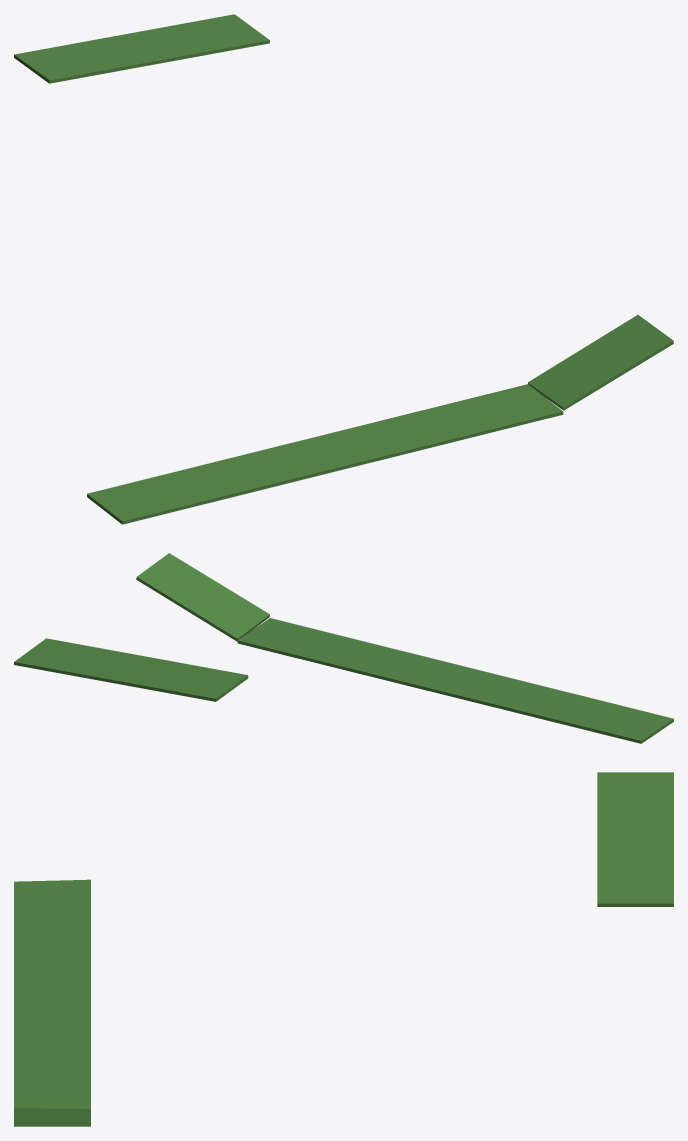
Rendered from Map2_강과바다_큐브.fbx.
3 views of the same model, one above another, from view 1: azimuth 30°, elevation 25°; view 2: azimuth 150°, elevation 25°; view 3: azimuth 270°, elevation 25° (orthographic). The views are drawn at different scales.
Visible parts, largest first — view 1: 1_강과바다_바닥_큐브.007, 1_강과바다_바닥_큐브, 1_강과바다_바닥_큐브.006; view 2: 1_강과바다_바닥_큐브.007, 1_강과바다_바닥_큐브, 1_강과바다_바닥_큐브.006; view 3: 1_강과바다_바닥_큐브.007, 1_강과바다_바닥_큐브, 1_강과바다_바닥_큐브.006.
Boxes of the visible parts, box(x1,y1,x2,y2) form: 1_강과바다_바닥_큐브.007: box(87, 384, 563, 524); 1_강과바다_바닥_큐브: box(14, 14, 269, 83); 1_강과바다_바닥_큐브.006: box(528, 315, 673, 410); 1_강과바다_바닥_큐브.007: box(237, 618, 673, 743); 1_강과바다_바닥_큐브: box(14, 638, 248, 701); 1_강과바다_바닥_큐브.006: box(136, 553, 269, 641); 1_강과바다_바닥_큐브.007: box(14, 879, 90, 1108); 1_강과바다_바닥_큐브: box(597, 772, 673, 906); 1_강과바다_바닥_큐브.006: box(14, 1108, 90, 1126).
Bounding box in the file's own units: 13450 × 14082 × 4873.
